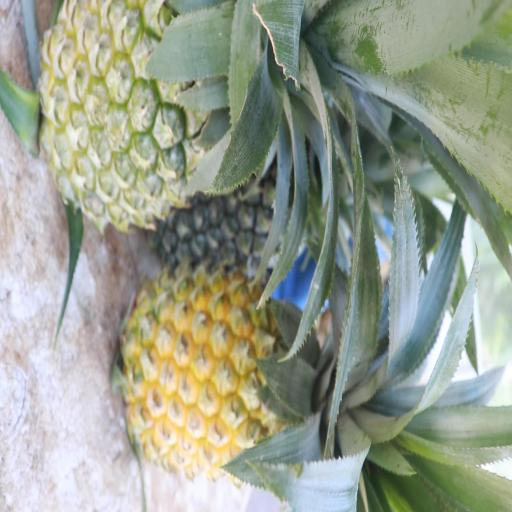------------------------------: (42, 0, 290, 219)
Pineapple - v8 v1: (125, 262, 322, 476)
